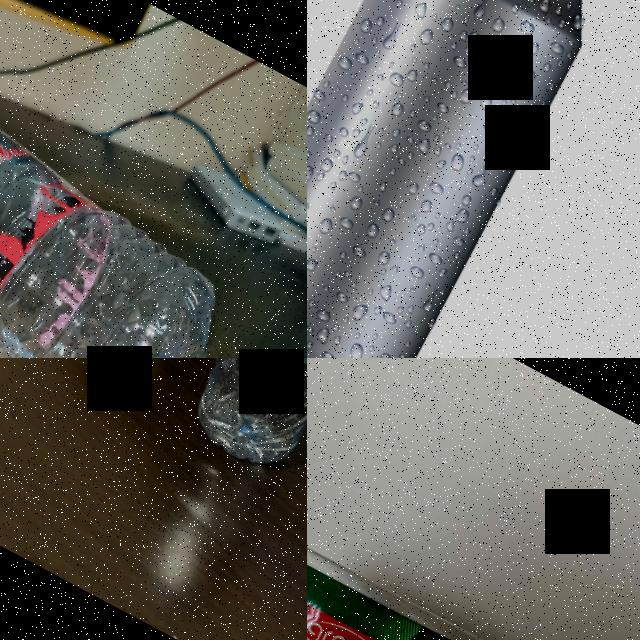bottle: (0, 42, 268, 358), (158, 358, 307, 482)
can: (307, 0, 619, 358), (307, 507, 562, 640)
